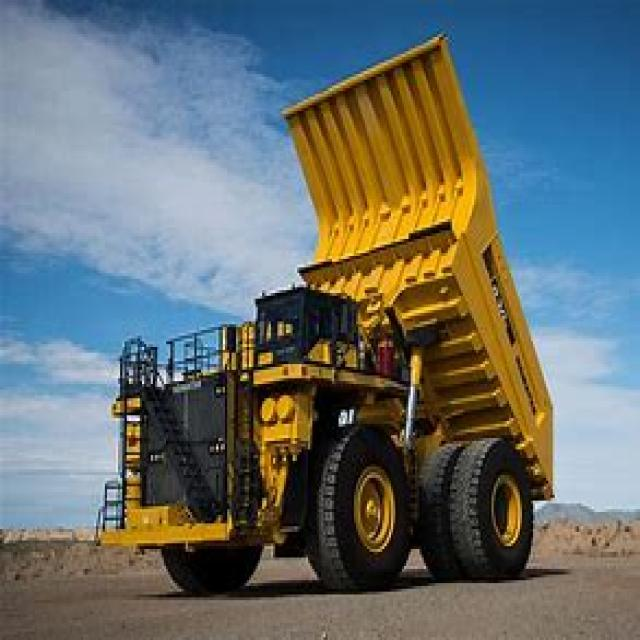dump_truck: (100, 29, 557, 592)
